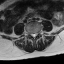CCS_normal: (33, 31, 35, 40)
LFS_normal: (37, 30, 39, 36)
LLS_normal: (35, 31, 37, 37)
RFS_stenosis: (28, 30, 30, 36)
RLS_normal: (30, 31, 33, 38)
